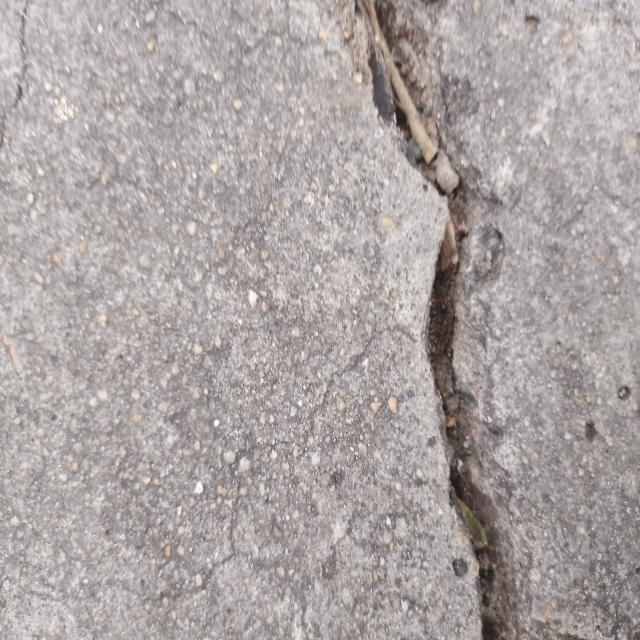vertical cracks: (362, 0, 510, 638)
